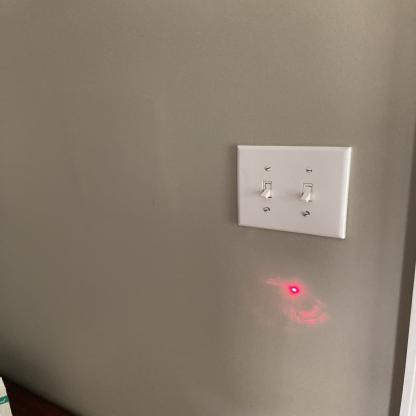target: (288, 283, 308, 302)
